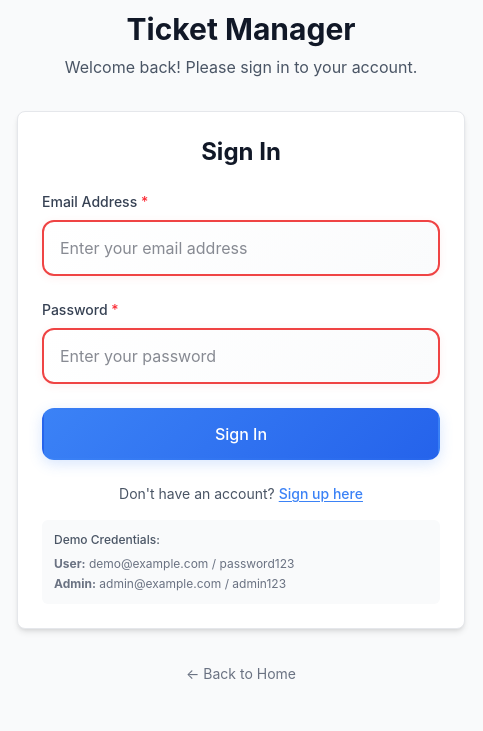
Authentication Flow Integration › Signup Flow › handles signup with existing email
Switch to signup form
Click the button "Sign up here". click: point(321, 494)
box: [279,484,363,504]
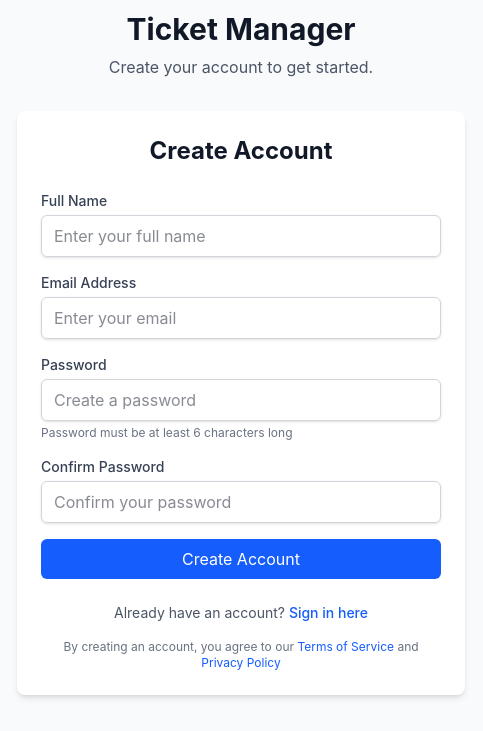
Fill in signup form with existing email
Type "Test User" into the field labelled "Full Name". click: point(241, 236)
box: [41,215,441,257]
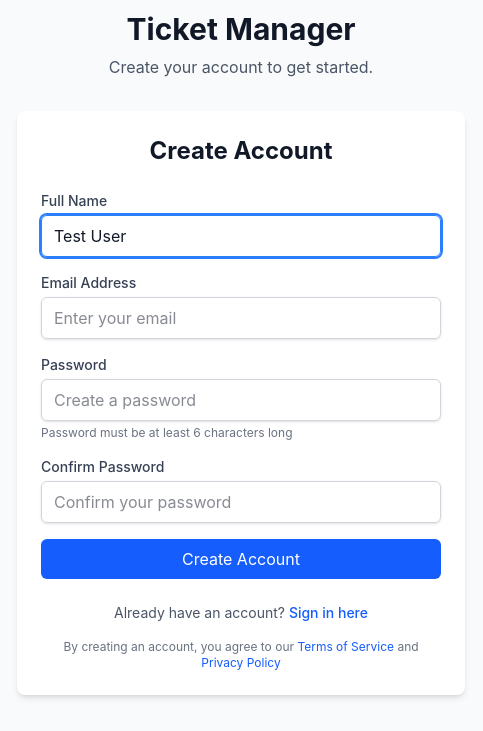
Type "demo@example.com" into the field labelled "Email Address". click: point(241, 318)
box: [41,297,441,339]
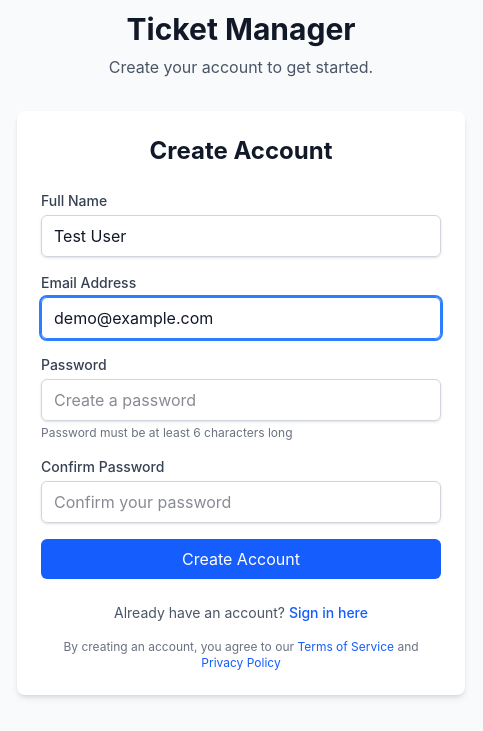
Type "password123" into the password field labelled "Password". click: point(241, 400)
box: [41,379,441,421]
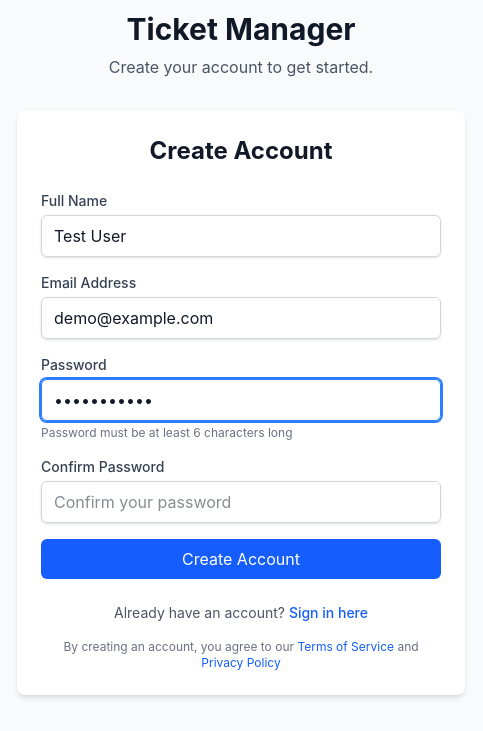
Type "password123" into the password field labelled "Confirm Password". click: point(241, 502)
box: [41,481,441,523]
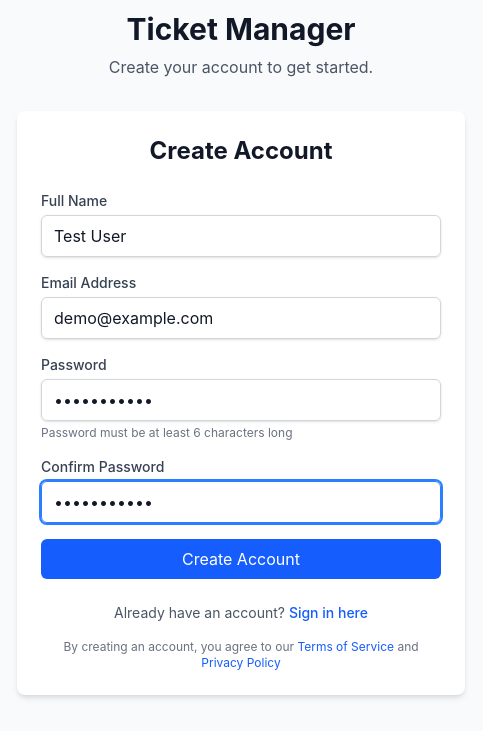
Submit form
Click the button "Create Account". click: point(241, 559)
box: [41,539,441,579]
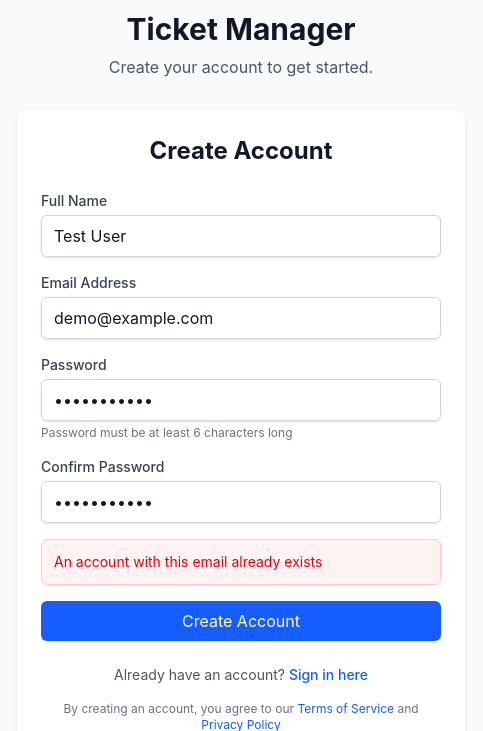
Result: the text "An account with this email already exists" is shown at [54,553,322,570]
